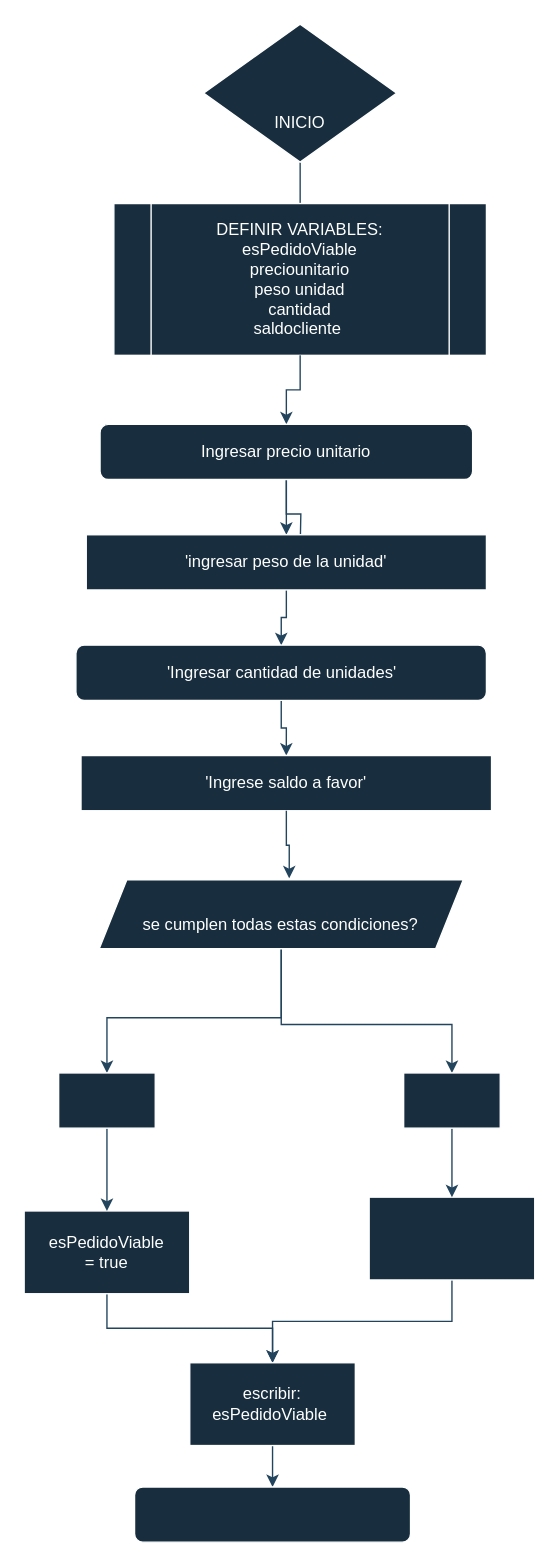
This 559x1566 diagram has some shape labels left out. The shapes that lost their labels are listed below. From the top down, each one's box as (x1, y1, x2, y2) in pixels, then its label:
(57, 1072, 155, 1128): si
(402, 1072, 500, 1128): no
(368, 1196, 535, 1280): esPedidoViable = False
(133, 1486, 411, 1542): FIN
